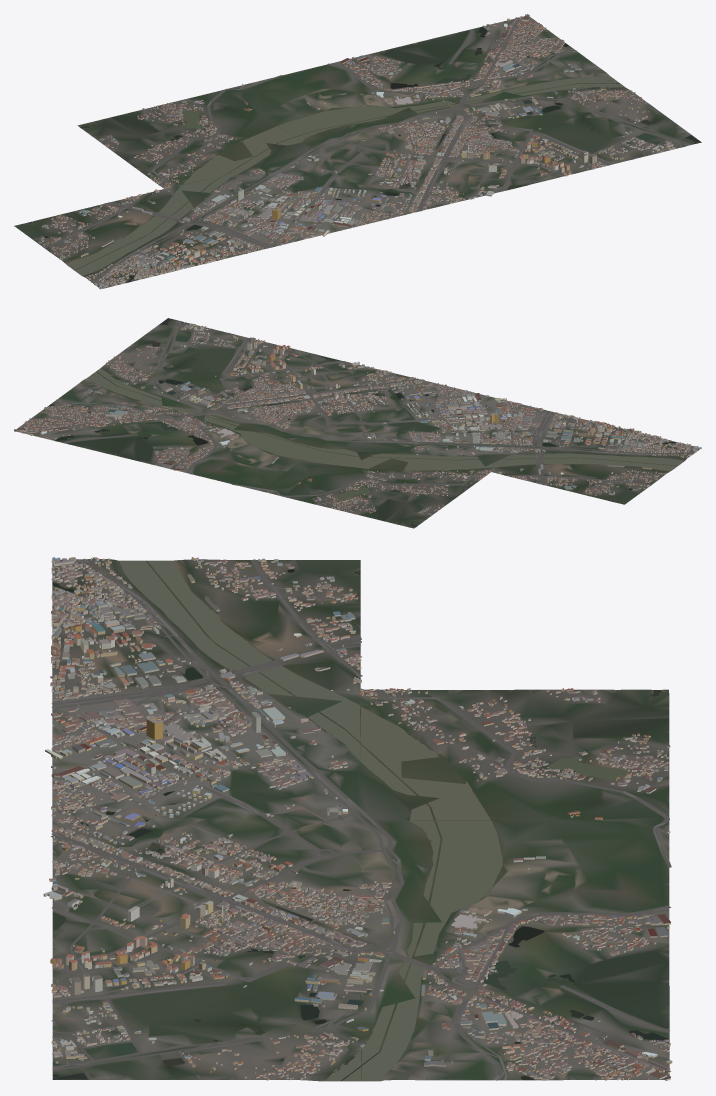
3 views of the same model, one above another, from view 1: azimuth 30°, elevation 25°; view 2: azimuth 150°, elevation 25°; view 3: azimuth 270°, elevation 25° (orthographic). The views are drawn at different scales.
Parts seen in each view (by area): view 1: ground, buildings, water, roads; view 2: ground, buildings, water, roads; view 3: ground, buildings, water, roads.
Part boxes in pixels (x1,y1,x2,y2): ground: (14,16,701,288); buildings: (38,14,682,289); water: (27,26,701,282); roads: (43,17,690,286); ground: (16,318,699,528); buildings: (14,322,701,514); water: (48,318,684,526); roads: (21,320,695,496); ground: (52,559,669,1081); buildings: (43,557,672,1080); water: (52,560,669,1080); roads: (51,558,671,1080).
Size of the model in its own units: 5613 by 92.85 by 2859.
